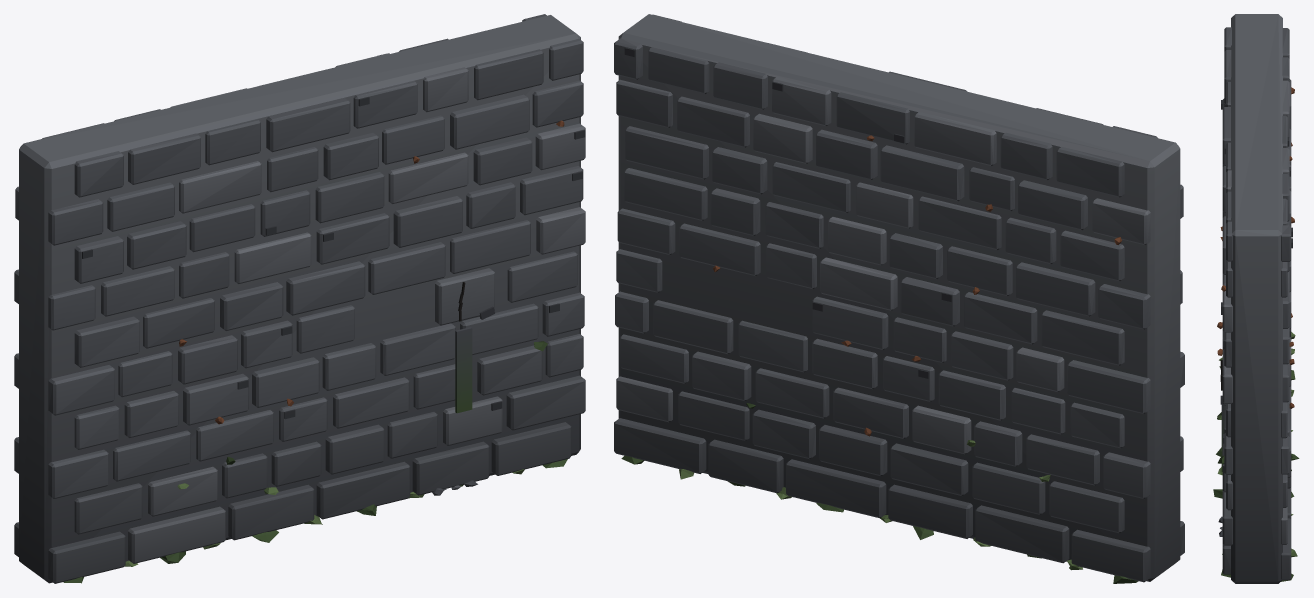
File: dun-room-wall.glb
3 renders of one model, left to right at view 1: azimuth 30°, elevation 25°; view 2: azimuth 150°, elevation 25°; view 3: azimuth 270°, elevation 25°, orthographic. The views are drawn at different scales.
Parts seen in each view (by area): view 1: dun_room_wall; view 2: dun_room_wall; view 3: dun_room_wall.
Part boxes in pixels (bbox=[...]): dun_room_wall: bbox=[14, 14, 585, 583]; dun_room_wall: bbox=[614, 14, 1184, 583]; dun_room_wall: bbox=[1213, 14, 1299, 583].
Size of the model in its own units: 4 by 3.04 by 0.6641.
